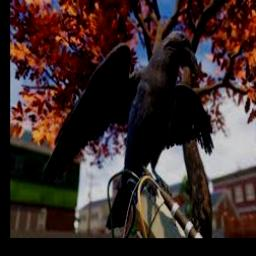Crow: (43, 32, 214, 229)
